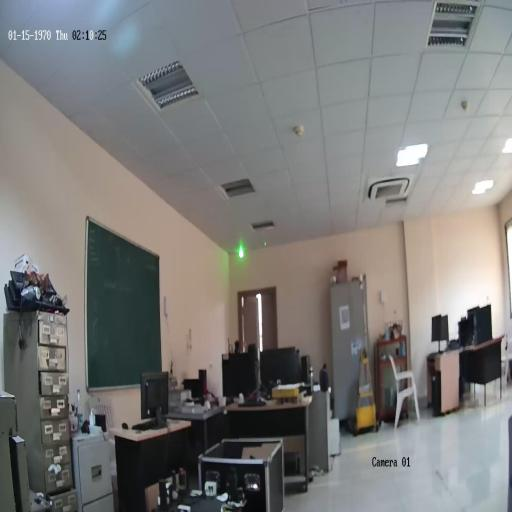laser: (237, 248, 245, 259)
